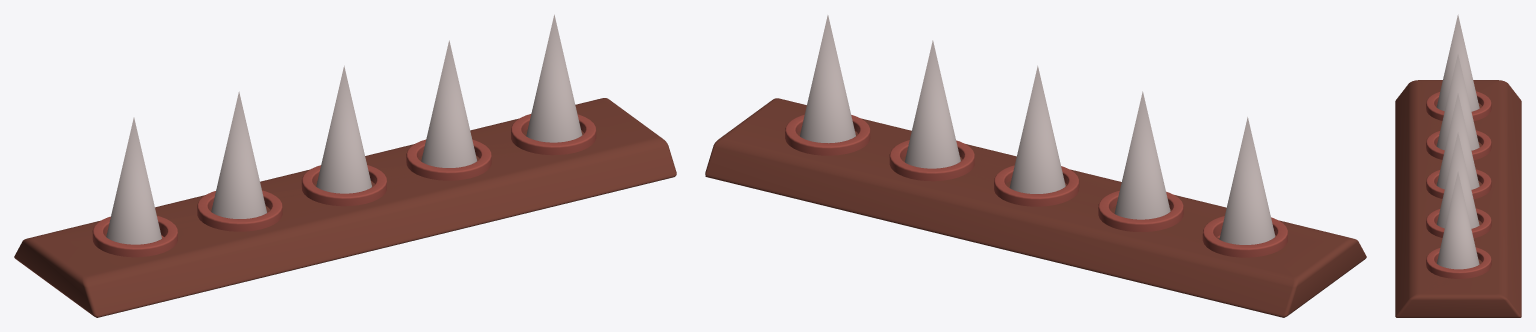
Rendered from Obstacle2.fbx.
The picture shows the model from 3 angles, left to right: view 1: azimuth 30°, elevation 25°; view 2: azimuth 150°, elevation 25°; view 3: azimuth 270°, elevation 25°; orthographic projection. The views are drawn at different scales.
Visible parts, largest first — view 1: Cube, Cylinder, Cone, Cone.001, Cone.002, Cone.003, Cone.004; view 2: Cube, Cylinder, Cone.001, Cone, Cone.003, Cone.002, Cone.004; view 3: Cube, Cylinder, Cone, Cone.004, Cone.003, Cone.002, Cone.001.
Part boxes in pixels (box(x1,y1,x2,y2)): Cube: box(14, 98, 676, 317); Cylinder: box(92, 114, 596, 257); Cone: box(526, 14, 582, 142); Cone.001: box(421, 40, 476, 167); Cone.002: box(316, 65, 371, 193); Cone.003: box(211, 91, 266, 218); Cone.004: box(106, 117, 161, 244); Cube: box(705, 98, 1366, 317); Cylinder: box(785, 114, 1287, 257); Cone.001: box(905, 40, 960, 168); Cone: box(800, 15, 855, 143); Cone.003: box(1114, 91, 1170, 219); Cone.002: box(1009, 65, 1065, 193); Cone.004: box(1219, 117, 1275, 244); Cube: box(1395, 80, 1521, 317); Cylinder: box(1426, 91, 1491, 278); Cone: box(1437, 171, 1479, 269); Cone.004: box(1436, 14, 1479, 111); Cone.003: box(1436, 54, 1479, 150); Cone.002: box(1436, 93, 1479, 189); Cone.001: box(1436, 132, 1479, 228).
Size of the model in its own units: 292 by 73.12 by 71.36.
